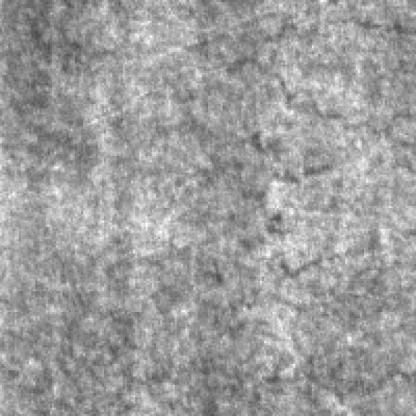crazing: (229, 56, 389, 281), (256, 206, 403, 406)
